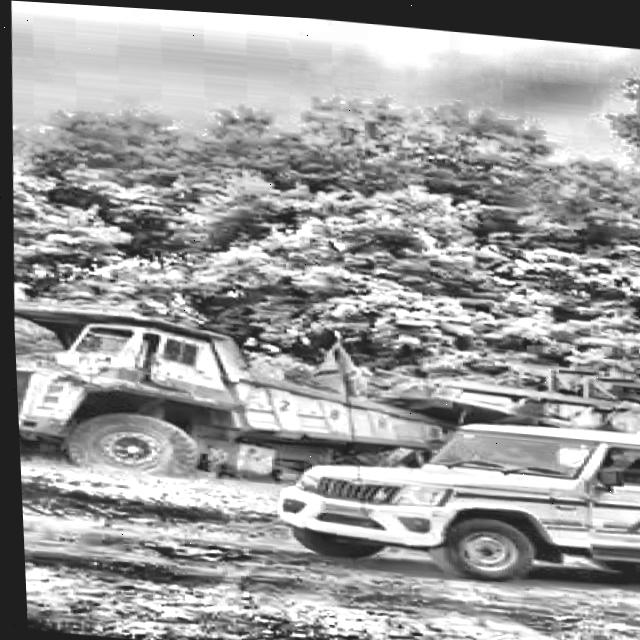dump_truck: (10, 294, 277, 481)
light_vehicle: (295, 396, 640, 590)
